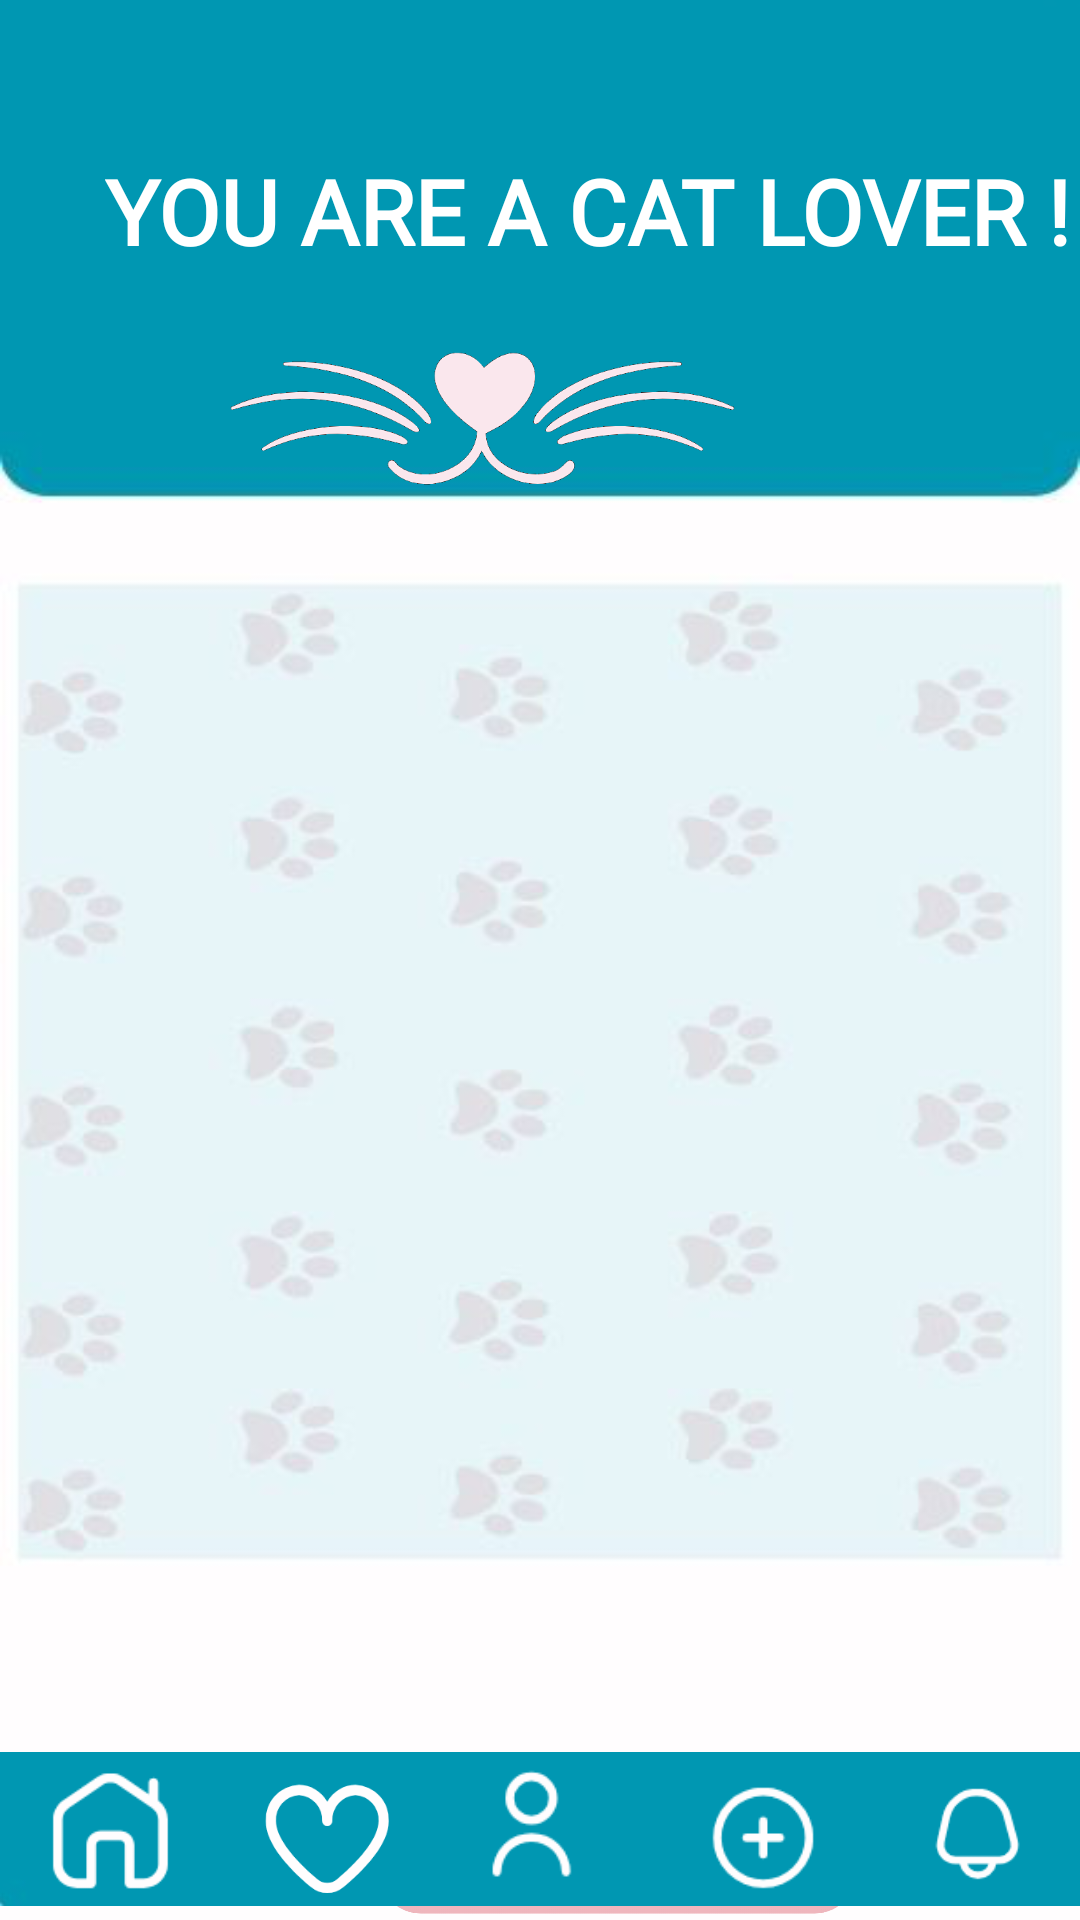

Icons on this 1080*1920 Android screen, each with the point to tap as point (x, y):
home: point (108, 1829)
notification: point (972, 1829)
